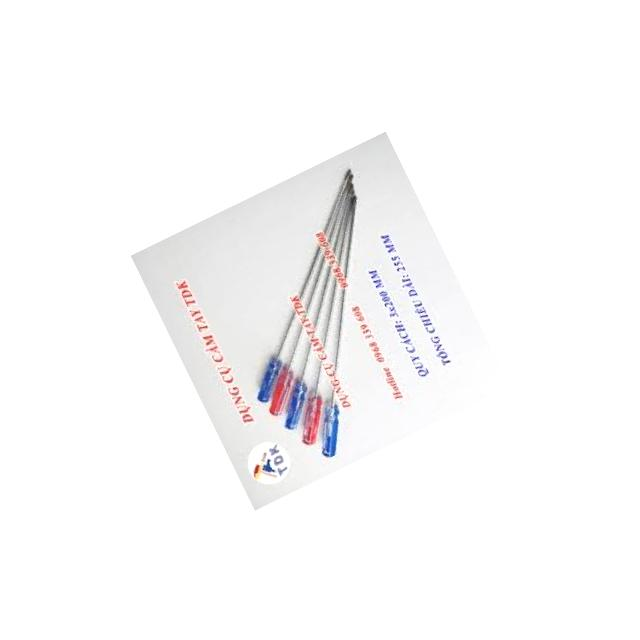screwdriver: (210, 186, 448, 448), (226, 192, 456, 460), (189, 170, 435, 419), (201, 180, 440, 432), (182, 165, 428, 406)
